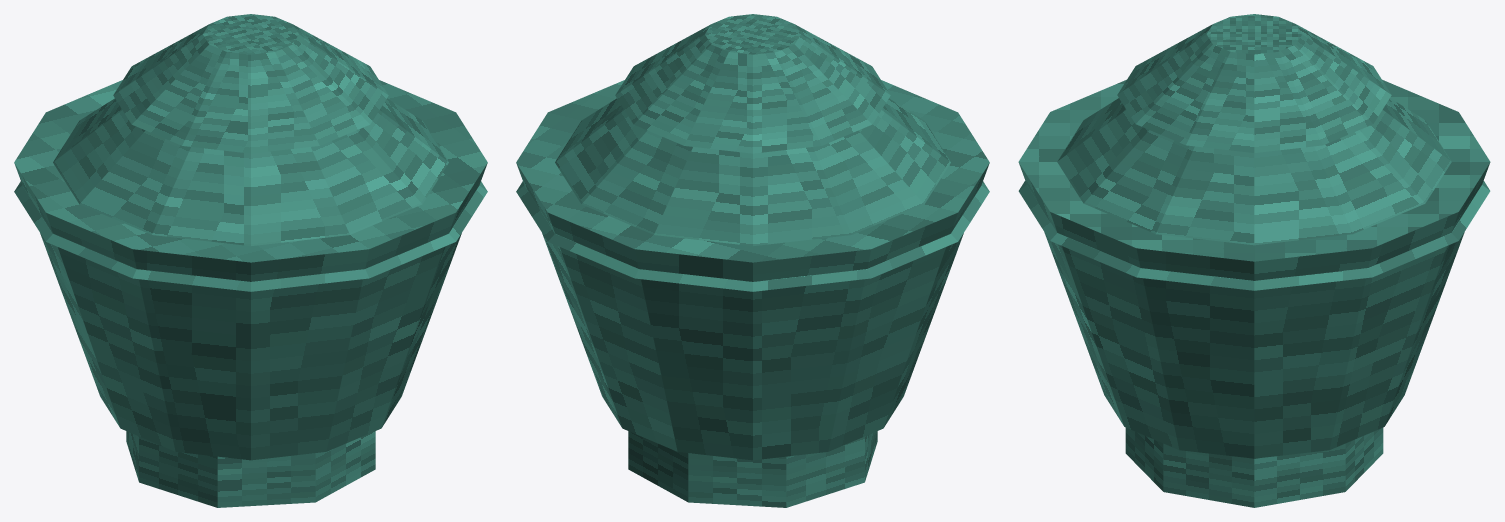
Rendered from urn_08.glb.
3 views of the same model, side by side, from view 1: azimuth 30°, elevation 25°; view 2: azimuth 150°, elevation 25°; view 3: azimuth 270°, elevation 25° (orthographic).
Visible parts, largest first — view 1: Belly, Neck, Lid, Foot; view 2: Belly, Neck, Lid, Foot; view 3: Belly, Neck, Lid, Foot.
Boxes of the visible parts, box(x1,y1,x2,y2) form: Belly: box(14, 80, 487, 460); Neck: box(14, 98, 487, 291); Lid: box(113, 14, 388, 153); Foot: box(126, 431, 375, 507); Belly: box(516, 80, 989, 460); Neck: box(516, 98, 989, 291); Lid: box(615, 14, 890, 153); Foot: box(628, 431, 877, 507); Belly: box(1018, 79, 1490, 458); Neck: box(1018, 98, 1490, 290); Lid: box(1117, 14, 1391, 152); Foot: box(1125, 428, 1383, 507).
Size of the model in its own units: 0.9839 by 0.9644 by 0.9839.
Materials: 1 (1 with a texture image).
